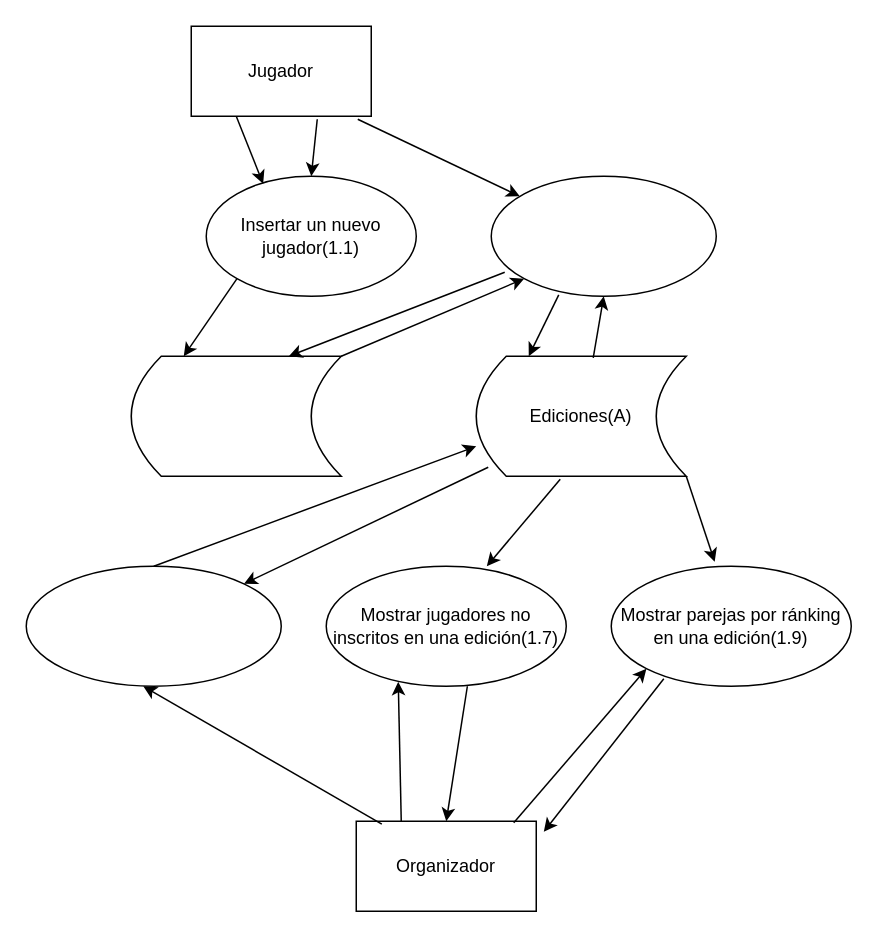
This 878x938 diagram has some shape labels left out. Each missing label, with the box of its shape:
Asignar una posición en el ránking de una edición a una pareja(1.5): (25, 565, 281, 686)
Crear una pareja en una edición concreta(1.3): (490, 175, 716, 296)
Parejas (B): (130, 355, 341, 476)
